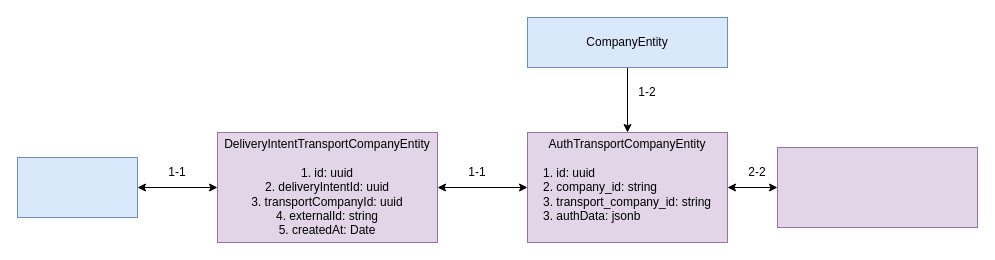
Image size: 995x260. Some labels were removed from this diagram. The shapes that lost their labels are listed below. From the top down, each one's centre as x and y in pixels, then its label:
At point 77,187: "DeliveryIntentEntity".
At point 877,187: "TransportCompanyEntity 1. id: uuid 2. name: string".
